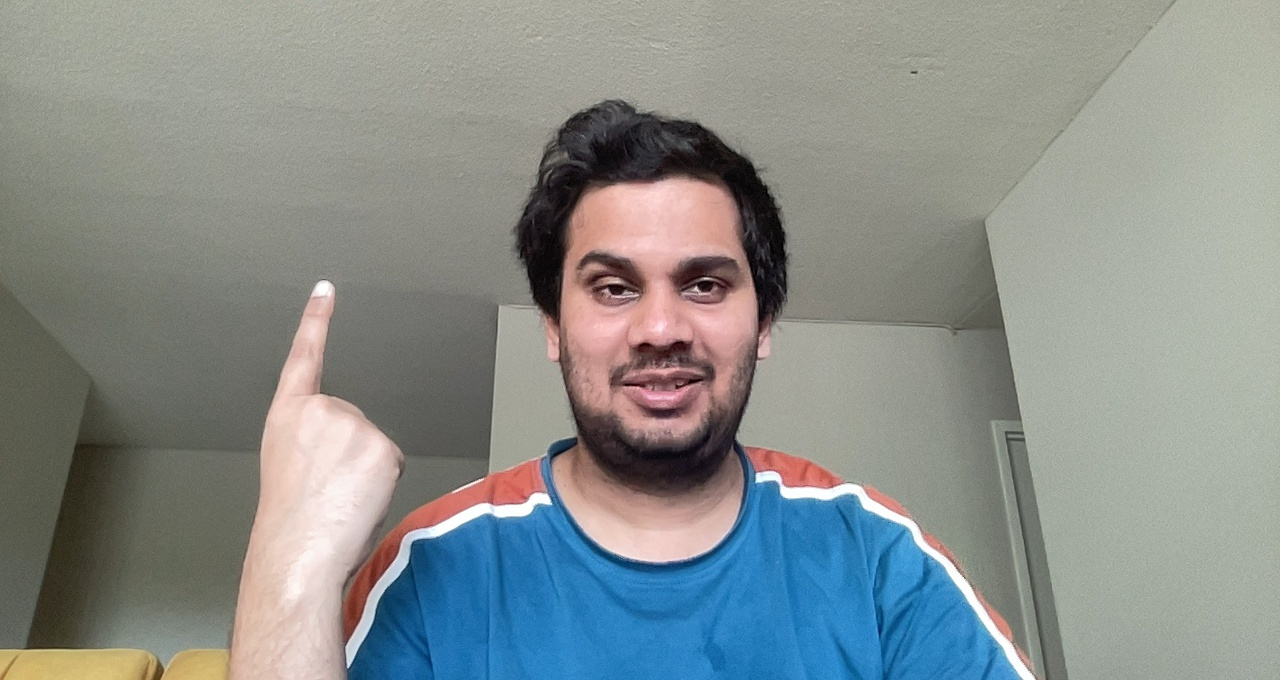fingerup: (251, 272, 416, 595)
